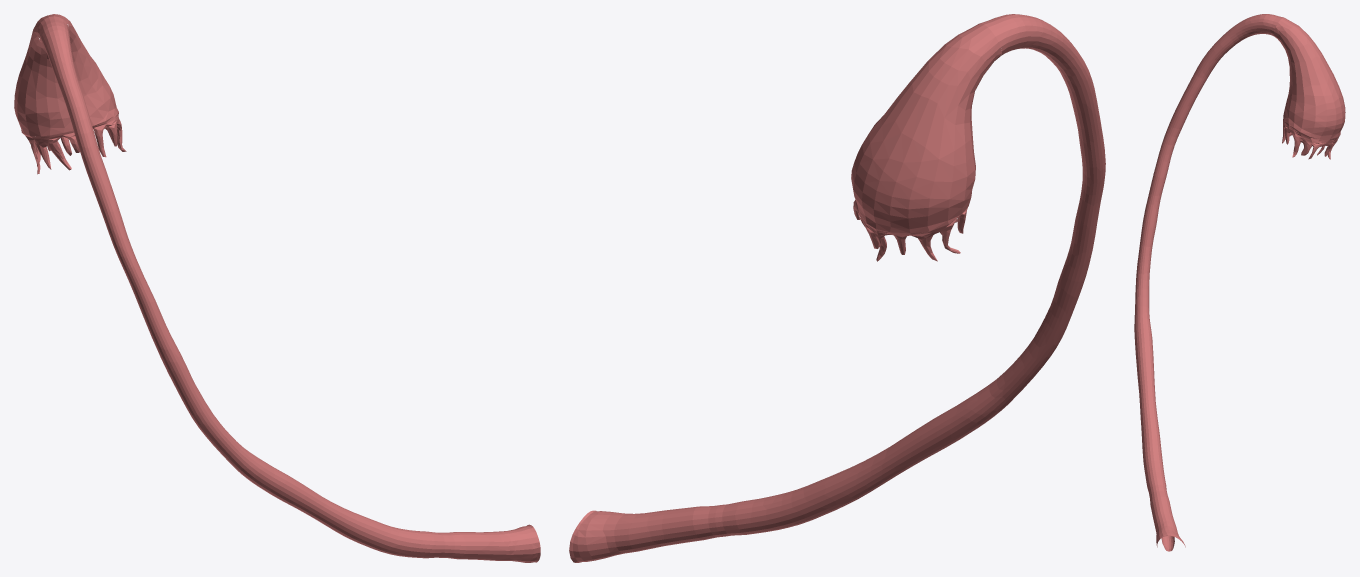
The model's file is VH_F_Fallopian_Tube_R_0.4.glb.
The picture shows the model from 3 angles, left to right: view 1: azimuth 30°, elevation 25°; view 2: azimuth 150°, elevation 25°; view 3: azimuth 270°, elevation 25°; orthographic projection. The views are drawn at different scales.
Visible parts, largest first — view 1: VH_F_ampulla_of_uterine_tube_R, VH_F_uterine_tube_infundibulum_R, VH_F_isthmus_of_fallopian_tube_R, VH_F_fibria_of_uterine_tube_R; view 2: VH_F_ampulla_of_uterine_tube_R, VH_F_uterine_tube_infundibulum_R, VH_F_isthmus_of_fallopian_tube_R, VH_F_fibria_of_uterine_tube_R; view 3: VH_F_ampulla_of_uterine_tube_R, VH_F_uterine_tube_infundibulum_R, VH_F_isthmus_of_fallopian_tube_R, VH_F_fibria_of_uterine_tube_R.
Part boxes in pixels (bbox=[...]): VH_F_ampulla_of_uterine_tube_R: bbox=[37, 16, 450, 558]; VH_F_uterine_tube_infundibulum_R: bbox=[14, 14, 118, 136]; VH_F_isthmus_of_fallopian_tube_R: bbox=[442, 524, 540, 562]; VH_F_fibria_of_uterine_tube_R: bbox=[22, 113, 126, 174]; VH_F_ampulla_of_uterine_tube_R: bbox=[715, 14, 1105, 536]; VH_F_uterine_tube_infundibulum_R: bbox=[851, 23, 1001, 233]; VH_F_isthmus_of_fallopian_tube_R: bbox=[569, 505, 722, 562]; VH_F_fibria_of_uterine_tube_R: bbox=[853, 200, 967, 261]; VH_F_ampulla_of_uterine_tube_R: bbox=[1134, 14, 1283, 493]; VH_F_uterine_tube_infundibulum_R: bbox=[1273, 17, 1345, 139]; VH_F_isthmus_of_fallopian_tube_R: bbox=[1149, 488, 1185, 551]; VH_F_fibria_of_uterine_tube_R: bbox=[1282, 117, 1339, 159].
Size of the model in its own units: 0.0344 by 0.0446 by 0.0209.
